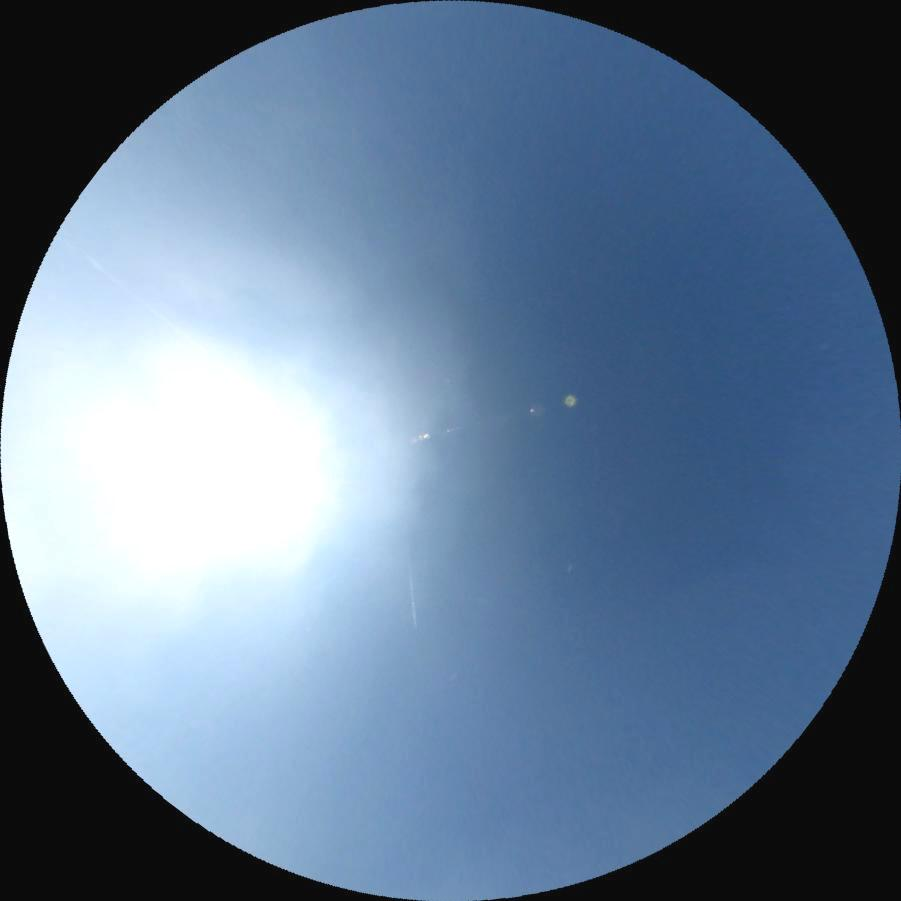contrail young: (403, 550, 419, 626)
parasite: (55, 227, 284, 418)
sun: (153, 389, 328, 560)
